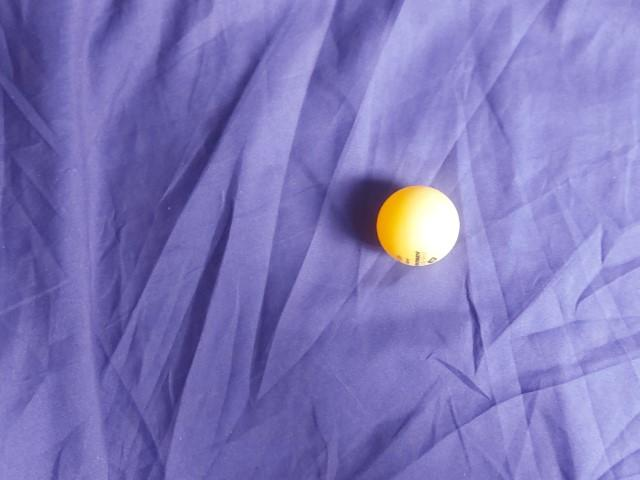oball: (171, 206, 275, 305)
